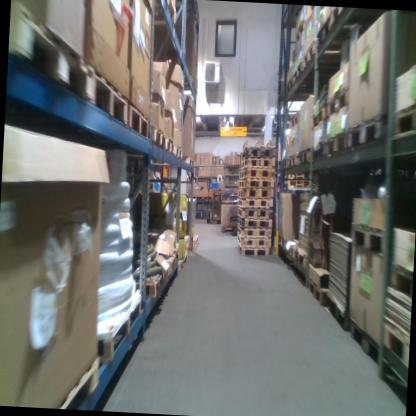pallet: (7, 0, 94, 100), (83, 53, 130, 128), (97, 289, 144, 361), (54, 353, 100, 410), (346, 112, 391, 159), (381, 314, 411, 371), (347, 320, 381, 365), (349, 219, 386, 258), (392, 97, 416, 142), (325, 82, 351, 122), (326, 125, 352, 164), (126, 102, 150, 138), (387, 266, 412, 297), (307, 278, 330, 305), (143, 268, 163, 298), (244, 141, 276, 159), (312, 100, 329, 131), (301, 41, 316, 74), (237, 216, 272, 229), (241, 158, 275, 171), (148, 124, 166, 148), (295, 149, 312, 174), (317, 18, 333, 44), (237, 236, 271, 248), (238, 188, 273, 199), (239, 170, 275, 180), (237, 198, 273, 208), (288, 64, 301, 91), (236, 228, 271, 238), (330, 6, 345, 29), (295, 17, 308, 40), (239, 180, 274, 188), (237, 210, 271, 218), (176, 254, 188, 276), (296, 249, 312, 265), (239, 247, 270, 255), (164, 137, 175, 153), (190, 232, 199, 251), (181, 156, 195, 166), (174, 144, 183, 158), (180, 233, 189, 247), (288, 154, 296, 166), (283, 158, 287, 166)
pallet_truck: (202, 180, 218, 226)
